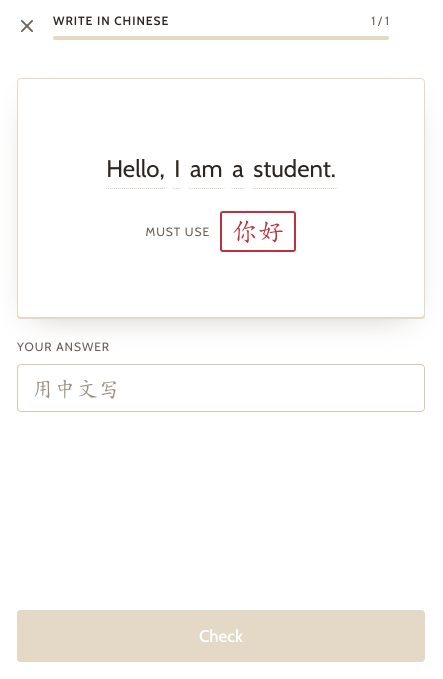
Test case: SentenceWrite — submitting an answer › shows the comparison view after clicking the Submit button
Type "你好" into the field with placeholder "用中文写" at [221, 388], box [17,364,425,412]
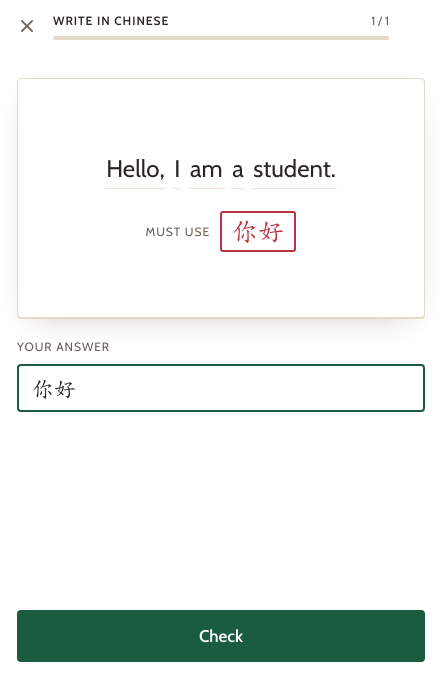
Click the button "Check" at [221, 636], box [17,610,425,662]
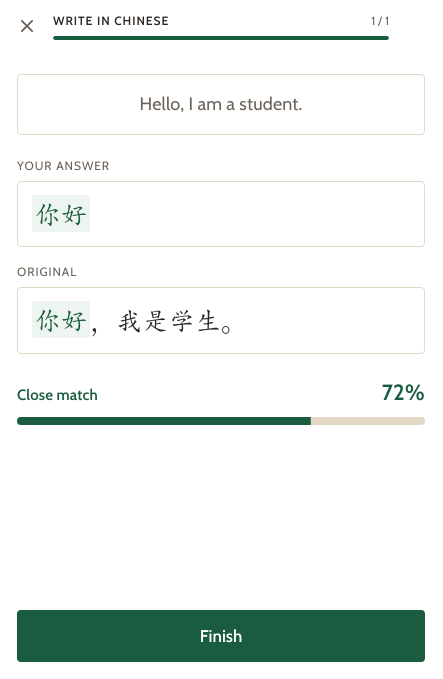
Expected: the text "Your answer" is shown, [17,158,110,173]
Expected: the text "Original" is shown, [17,264,77,279]
